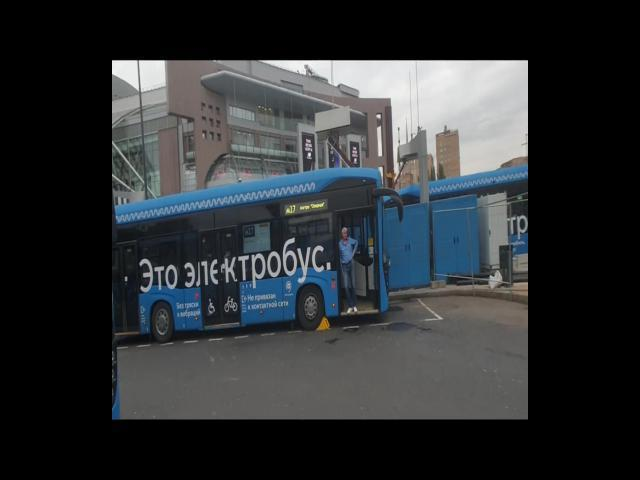bus: (112, 164, 404, 346)
